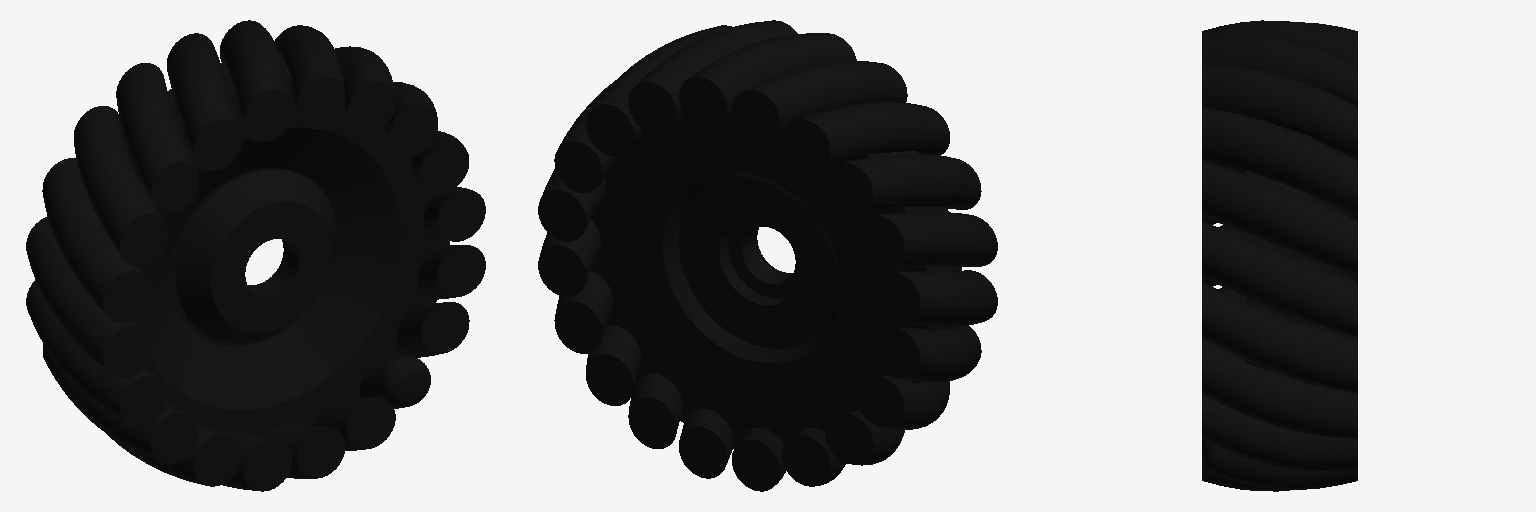
The robot description file, URDF, robot "robot":
<?xml version="0.0" ?>
<robot name="">
	<link name="link0">
		<inertial>
			<origin rpy="0.00000 -0.00000 0.00000" xyz="0.00000 0.00000 0.00000"/>
			<mass value="15.00000"/>
			<inertia ixx="0.49685" ixy="0" ixz="0" iyy="1.35801" iyz="0" izz="1.67598"/>
		</inertial>
		<visual>
			<origin rpy="0.00000 -0.00000 0.00000" xyz="0.00000 0.00000 0.00000"/>
			<geometry>
				<mesh filename="mesh/body_small.stl" scale="1.00000 1.00000 1.00000"/>
			</geometry>
			<material name="mat_-1_0">
				<color rgba="0.70000 0.70000 0.70000 1.00000" />
			</material>
		</visual>
		<collision>
			<origin rpy="0.00000 -0.00000 0.00000" xyz="0.00000 0.00000 0.00000"/>
			<geometry>
				<box size="1.00740 0.57090 0.26750"/>
			</geometry>
		</collision>
	</link>
	<link name="link1">
		<inertial>
			<origin rpy="0.00000 -0.00000 0.00000" xyz="0.00000 0.00000 0.00000"/>
			<mass value="1.00000"/>
			<inertia ixx="0.00000" ixy="0" ixz="0" iyy="0.00000" iyz="0" izz="0.00000"/>
		</inertial>
		<visual>
			<origin rpy="0.00000 -0.00000 0.00000" xyz="0.00000 0.00000 0.00000"/>
			<geometry>
				<mesh filename="mesh/left_wheel.stl" scale="1.00000 1.00000 1.00000"/>
			</geometry>
			<material name="mat_0_0">
				<color rgba="0.10000 0.10000 0.10000 1.00000" />
			</material>
		</visual>
	</link>
	<link name="link2">
		<inertial>
			<origin rpy="0.00000 -0.00000 0.00000" xyz="0.00000 0.00000 0.00000"/>
			<mass value="1.00000"/>
			<inertia ixx="0.00000" ixy="0" ixz="0" iyy="0.00000" iyz="0" izz="0.00000"/>
		</inertial>
		<visual>
			<origin rpy="0.00000 -0.00000 0.00000" xyz="0.00000 0.00000 0.00000"/>
			<geometry>
				<mesh filename="mesh/right_wheel.stl" scale="1.00000 1.00000 1.00000"/>
			</geometry>
			<material name="mat_1_0">
				<color rgba="0.10000 0.10000 0.10000 1.00000" />
			</material>
		</visual>
	</link>
	<link name="link3">
		<inertial>
			<origin rpy="0.00000 -0.00000 0.00000" xyz="0.00000 0.00000 0.00000"/>
			<mass value="1.00000"/>
			<inertia ixx="0.00000" ixy="0" ixz="0" iyy="0.00000" iyz="0" izz="0.00000"/>
		</inertial>
		<visual>
			<origin rpy="0.00000 -0.00000 0.00000" xyz="0.00000 0.00000 0.00000"/>
			<geometry>
				<mesh filename="mesh/left_front_wheel.stl" scale="1.00000 1.00000 1.00000"/>
			</geometry>
			<material name="mat_2_0">
				<color rgba="0.10000 0.10000 0.10000 1.00000" />
			</material>
		</visual>
	</link>
	<link name="link4">
		<inertial>
			<origin rpy="0.00000 -0.00000 0.00000" xyz="0.00000 0.00000 0.00000"/>
			<mass value="1.00000"/>
			<inertia ixx="0.00000" ixy="0" ixz="0" iyy="0.00000" iyz="0" izz="0.00000"/>
		</inertial>
		<visual>
			<origin rpy="0.00000 -0.00000 0.00000" xyz="0.00000 0.00000 0.00000"/>
			<geometry>
				<mesh filename="mesh/right_front_wheel.stl" scale="1.00000 1.00000 1.00000"/>
			</geometry>
			<material name="mat_3_0">
				<color rgba="0.10000 0.10000 0.10000 1.00000" />
			</material>
		</visual>
	</link>
	<joint name="joint1" type="continuous">
		<parent link="link0"/>
		<child link="link1"/>
		<dynamics damping="1.0" friction="0.0001"/>
		<origin rpy="1.57000 -0.00000 0.00000" xyz="-0.20100 0.29320 -0.02000"/>
		<axis xyz="0.00000 0.00000 1.00000"/>
	</joint>
	<joint name="joint2" type="continuous">
		<parent link="link0"/>
		<child link="link2"/>
		<dynamics damping="1.0" friction="0.0001"/>
		<origin rpy="1.57000 -0.00000 0.00000" xyz="-0.20100 -0.29320 -0.02000"/>
		<axis xyz="0.00000 0.00000 1.00000"/>
	</joint>
	<joint name="joint3" type="continuous">
		<parent link="link0"/>
		<child link="link3"/>
		<dynamics damping="1.0" friction="0.0001"/>
		<origin rpy="1.57000 -0.00000 0.00000" xyz="0.20100 0.29320 -0.02000"/>
		<axis xyz="0.00000 0.00000 1.00000"/>
	</joint>
	<joint name="joint4" type="continuous">
		<parent link="link0"/>
		<child link="link4"/>
		<dynamics damping="1.0" friction="0.0001"/>
		<origin rpy="1.57000 -0.00000 0.00000" xyz="0.20100 -0.29320 -0.02000"/>
		<axis xyz="0.00000 0.00000 1.00000"/>
	</joint>
</robot>

--- What the picture shows (computed from the rendered views, not written in the file) ---
The picture shows the robot from 3 angles, left to right: view 1: azimuth 30°, elevation 25°; view 2: azimuth 150°, elevation 25°; view 3: azimuth 270°, elevation 25°; orthographic projection.
Model robot with 5 links and 4 joints (4 continuous), rooted at link0, posed all joints at 0.
Visible links, largest first — view 1: link2; view 2: link2; view 3: link2.
Boxes of the visible links, x1=… form: link2: x1=26, y1=20, x2=485, y2=491; link2: x1=538, y1=20, x2=997, y2=491; link2: x1=1202, y1=20, x2=1357, y2=491.
Bounding box of the posed robot: 0.1509 × 0.0497 × 0.1509 m (x, y, z).
1 mesh visuals loaded from 5 distinct referenced files (1 binary STL); not drawn: 4 (reference not matched to a file when rendering).